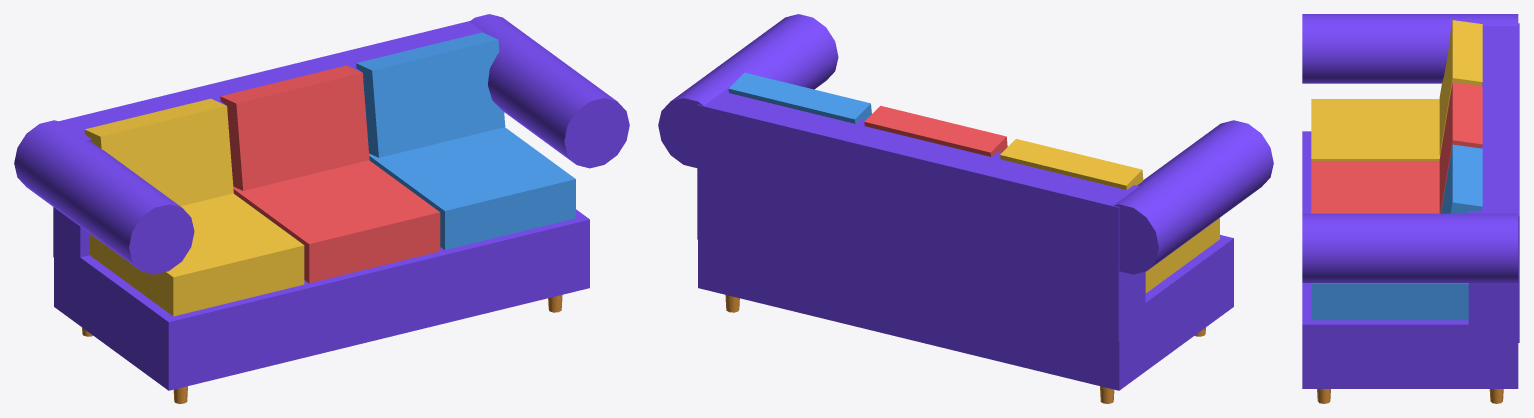
Rendered from table_fun_1.glb.
3 views of the same model, side by side, from view 1: azimuth 30°, elevation 25°; view 2: azimuth 150°, elevation 25°; view 3: azimuth 270°, elevation 25° (orthographic). The views are drawn at different scales.
Size of the model in its own units: 2.14 by 0.8871 by 0.855.
